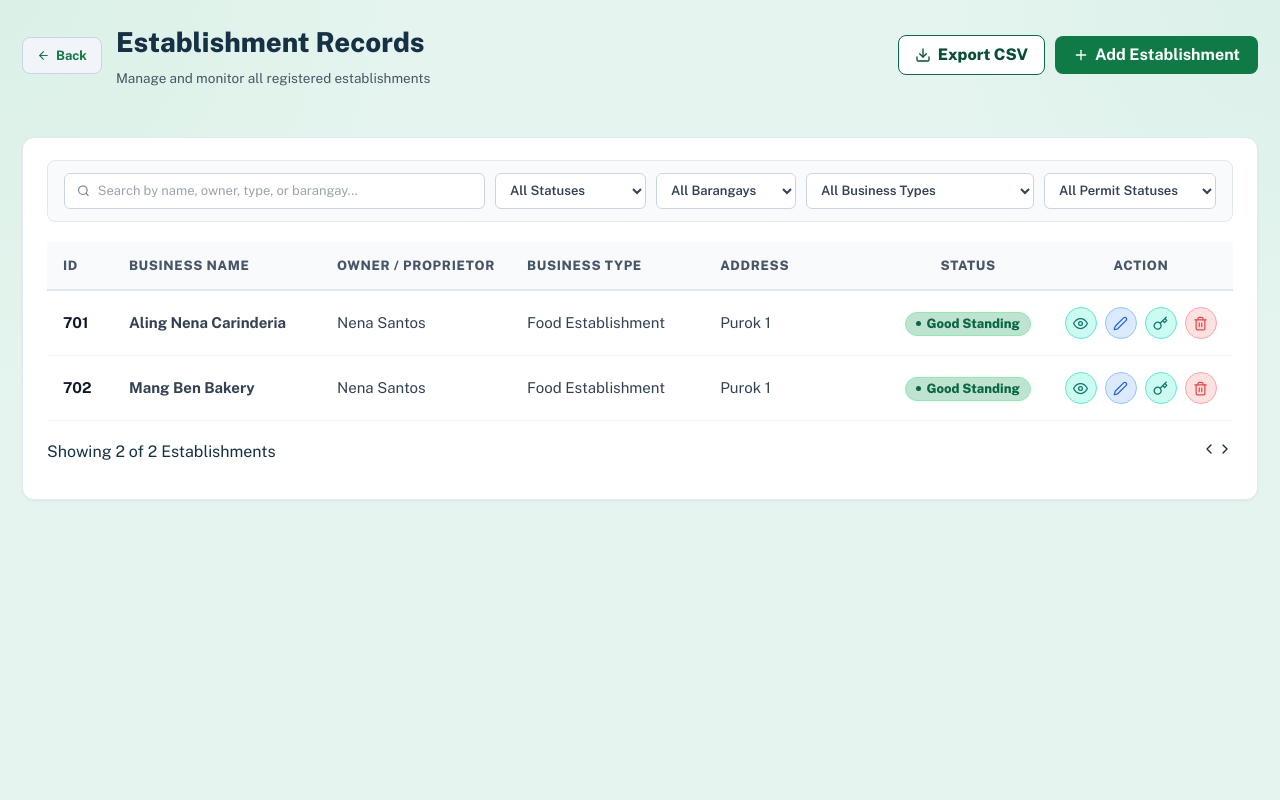
Test: Print Owner's Slip › the record shows the new slip after printing, and the code is not kept on the page
Click the button titled "View establishment" in the row of "701": click(1081, 323) [1065,307,1097,339]
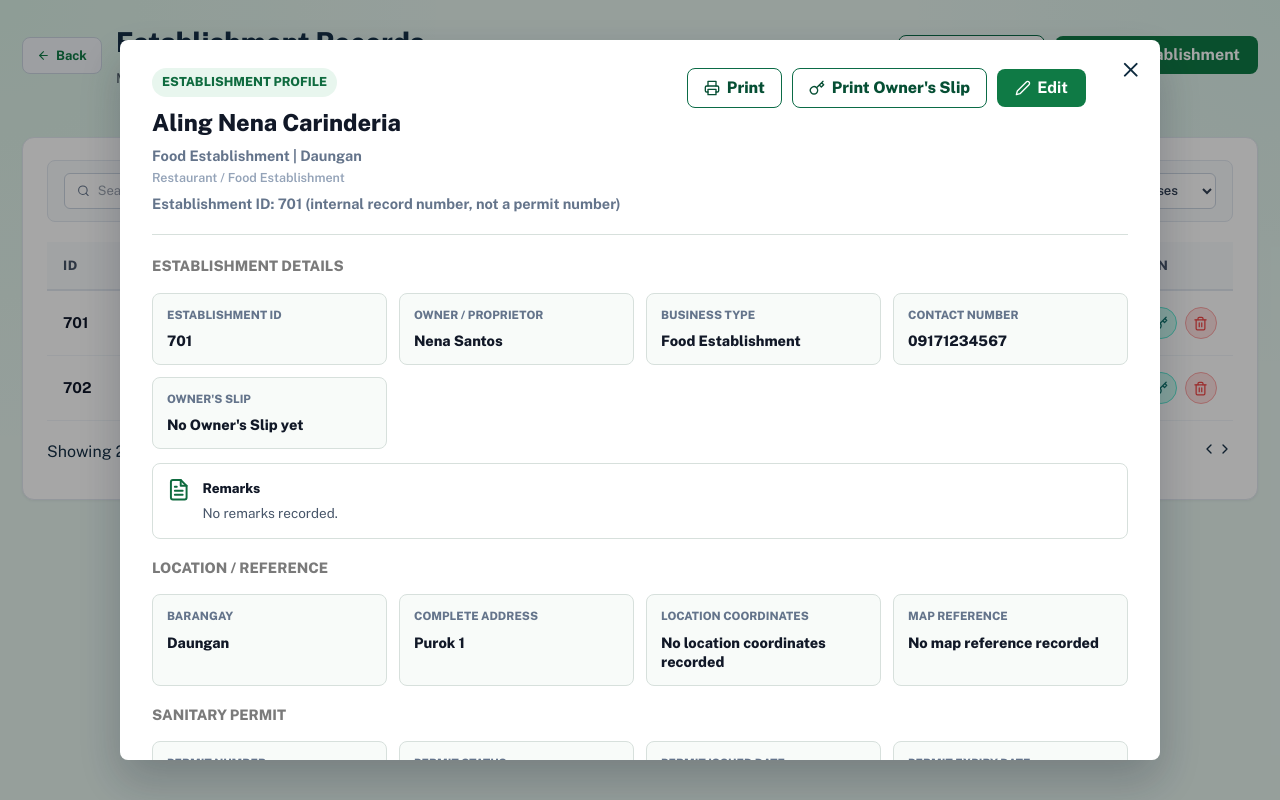
Expected: the text "No Owner's Slip yet" is shown, [167,416,303,433]
Click the button "Print Owner's Slip": click(890, 88) [792,68,987,108]
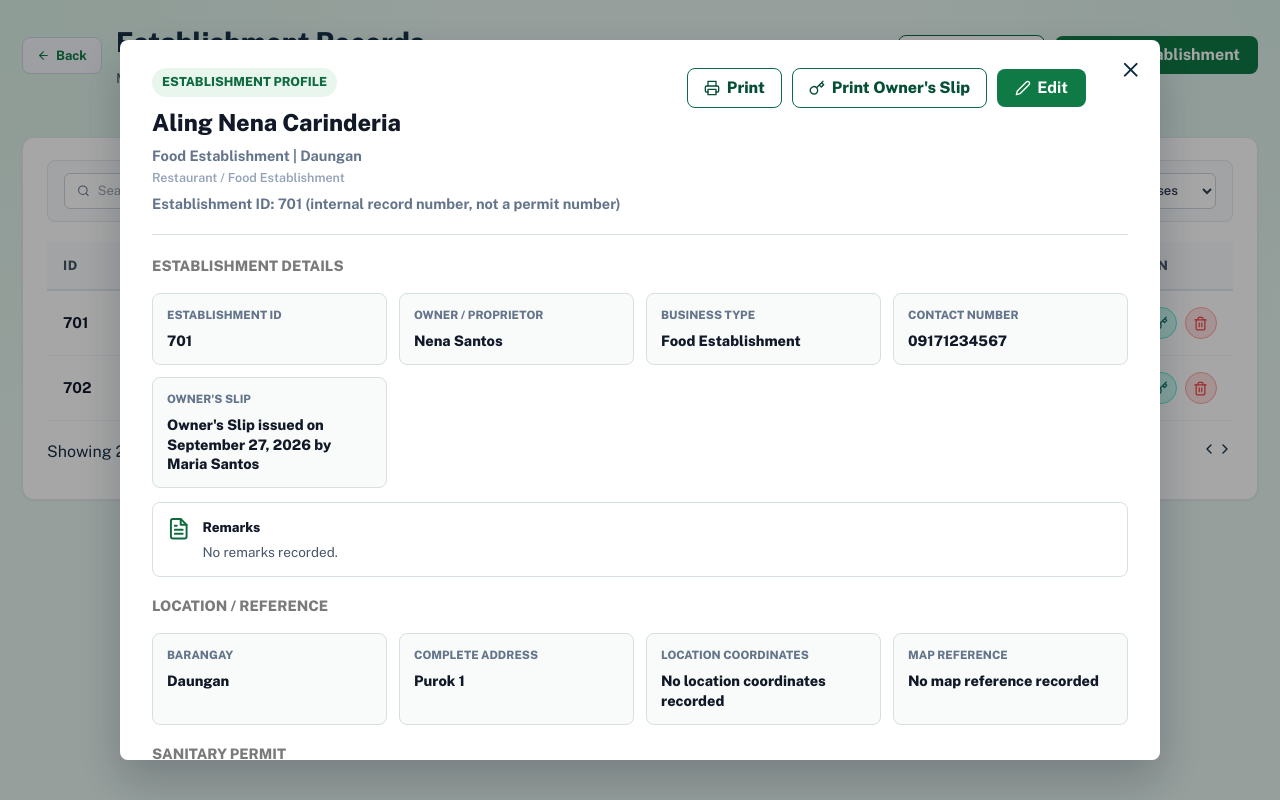
Expected: the text "Owner's Slip issued on September 27, 2026 by Maria Santos" is shown, [167,416,331,472]
